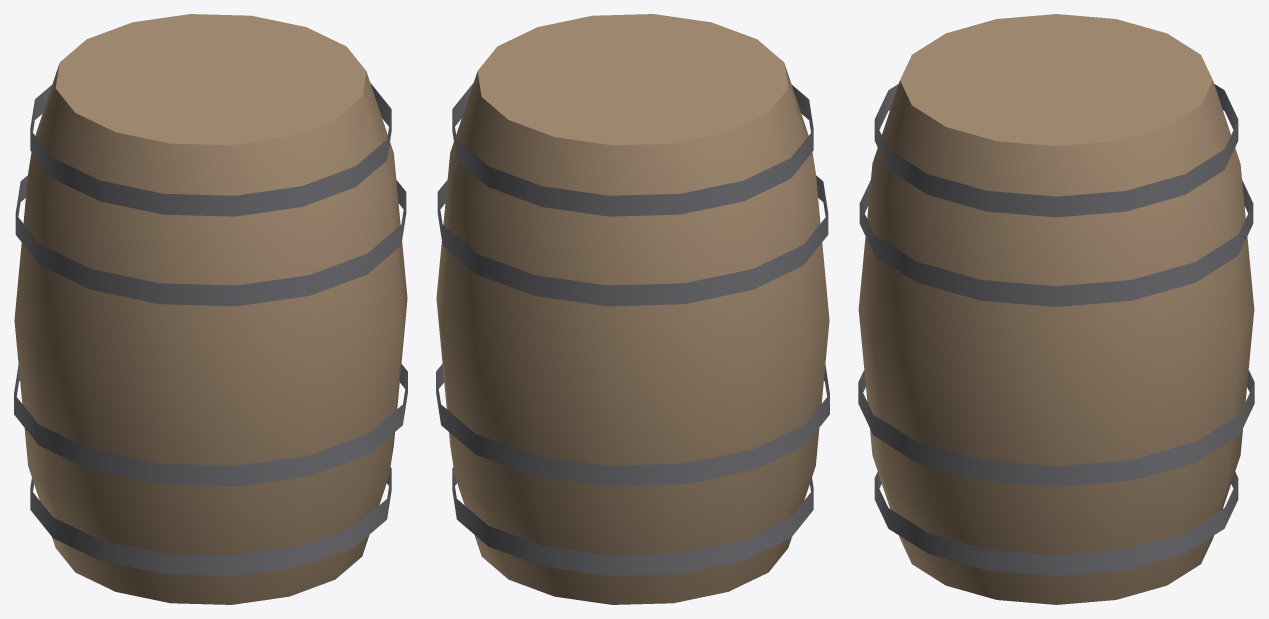
File: barrel.glb
3 renders of one model, left to right at view 1: azimuth 30°, elevation 25°; view 2: azimuth 150°, elevation 25°; view 3: azimuth 270°, elevation 25°, orthographic.
Parts seen in each view (by area): view 1: barrel; view 2: barrel; view 3: barrel.
Boxes of the visible parts, box(x1,y1,x2,y2) form: barrel: box(14, 14, 407, 604); barrel: box(436, 14, 829, 604); barrel: box(858, 14, 1254, 604).
Bounding box in the file's own units: 0.8618 × 1.1 × 0.8618.
